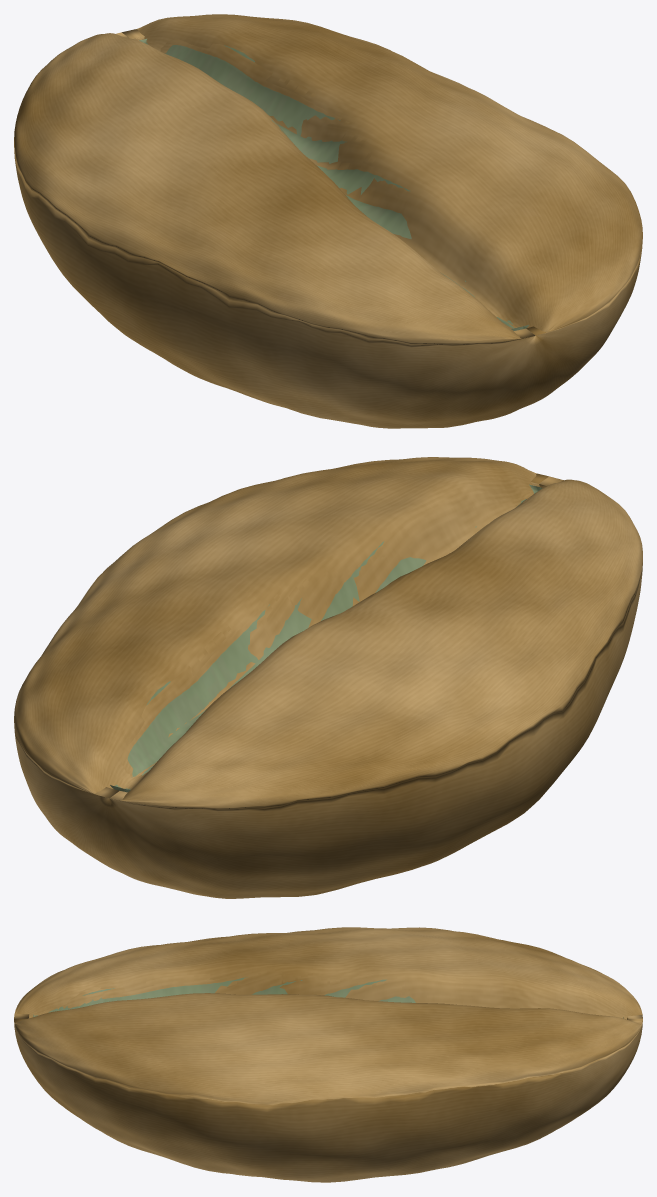
The model's file is dry-hulling.glb.
3 renders of one model, top to bottom at view 1: azimuth 30°, elevation 25°; view 2: azimuth 150°, elevation 25°; view 3: azimuth 270°, elevation 25°, orthographic. The views are drawn at different scales.
Visible parts, largest first — view 1: Dried_Parchment_A, Dried_Parchment_B, Green_Seed; view 2: Dried_Parchment_A, Dried_Parchment_B, Green_Seed; view 3: Dried_Parchment_A, Dried_Parchment_B, Green_Seed.
Part boxes in pixels (x1,y1,x2,y2): Dried_Parchment_A: (14, 14, 642, 344); Dried_Parchment_B: (14, 29, 642, 428); Green_Seed: (139, 38, 528, 330); Dried_Parchment_A: (14, 457, 642, 808); Dried_Parchment_B: (14, 473, 642, 898); Green_Seed: (110, 484, 542, 792); Dried_Parchment_A: (14, 927, 642, 1107); Dried_Parchment_B: (14, 1013, 642, 1182); Green_Seed: (33, 977, 623, 1018).
Bounding box in the file's own units: 0.00848 × 0.00415 × 0.0132.
2 materials, 2 textured.
